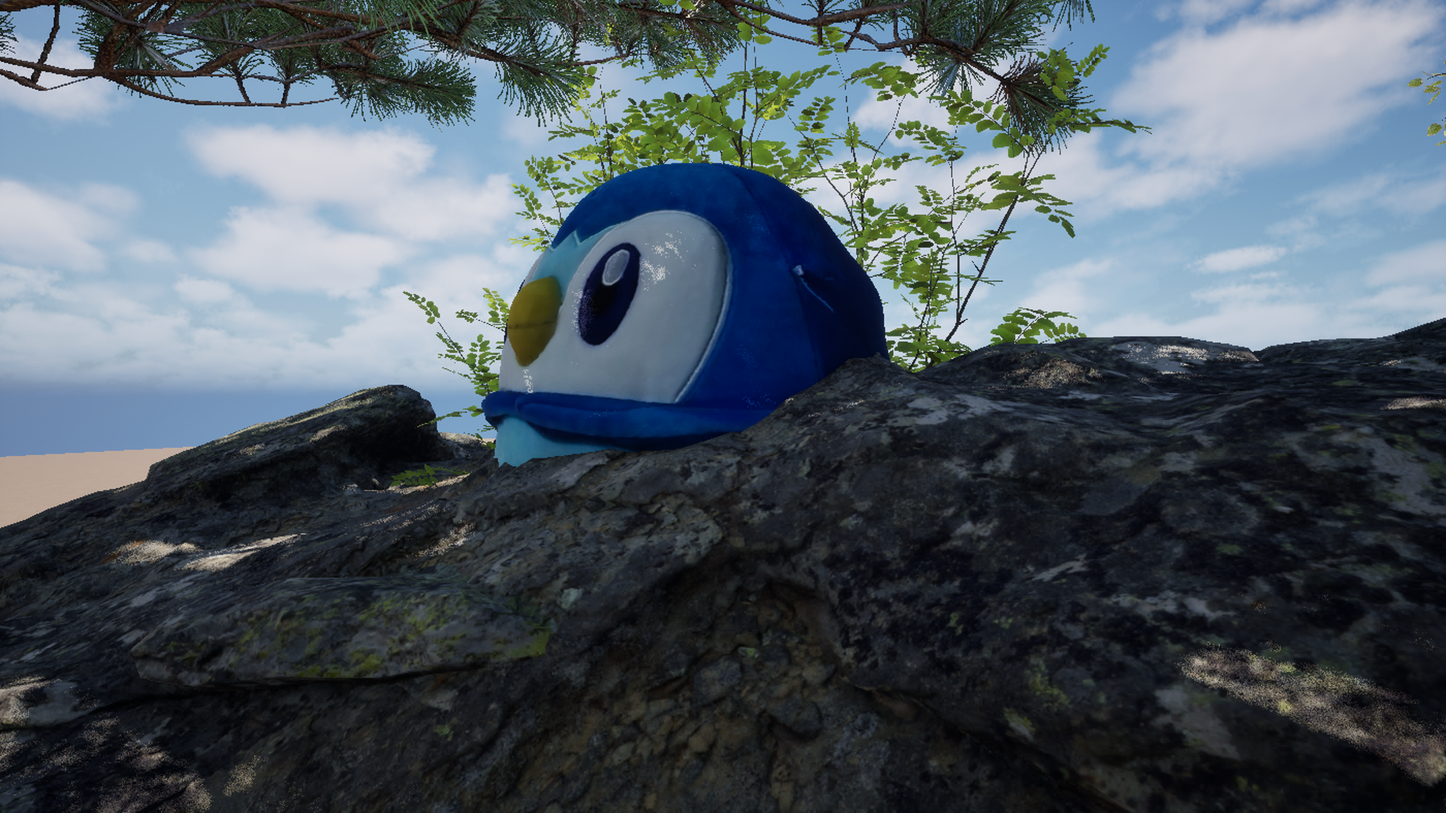Piplup: (157, 0, 1196, 813)
